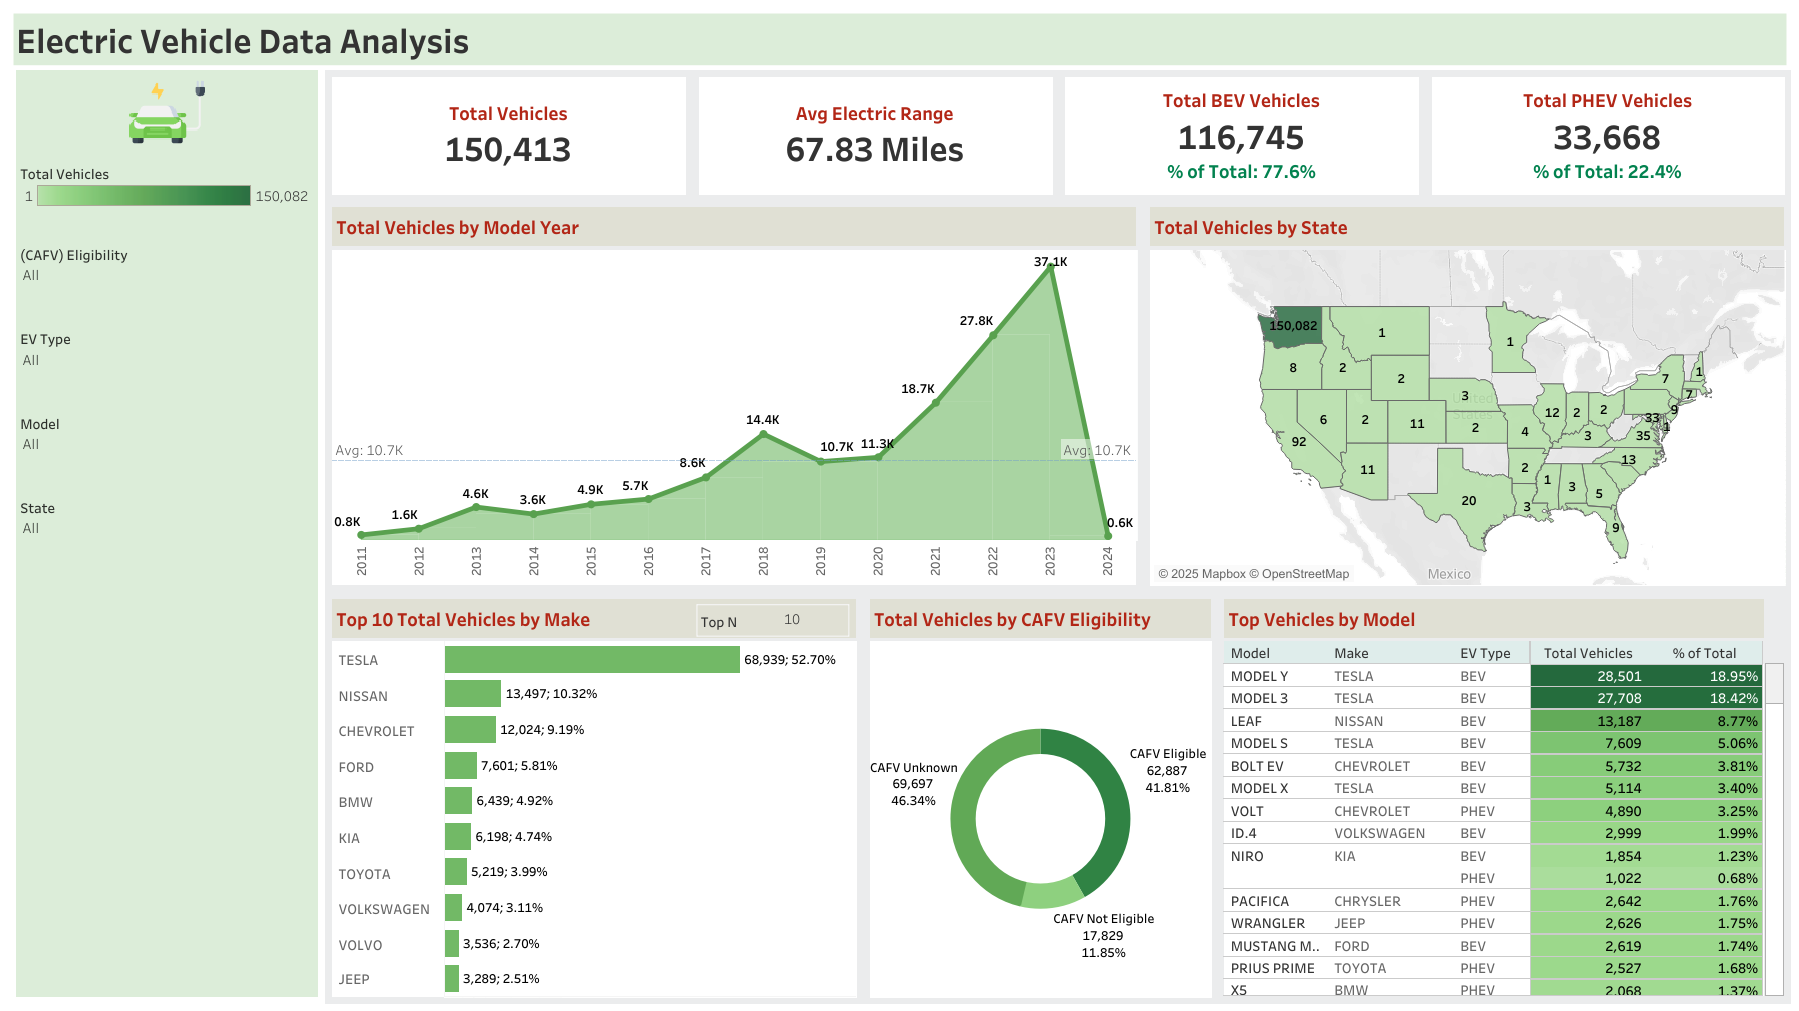

What the dashboard file says about the page in this screenshot:
{"tool":"tableau","page":{"name":"Dashboard 1","canvas":[1600,900],"ordinal":0},"visuals":[{"type":"title","box":[8,8,1584,54]},{"type":"image","param":"Image/electric-car.png","box":[14,62,269,75]},{"type":"worksheet","title":"Total Vehicles","mark":"Automatic","box":[289,62,326,116]},{"type":"worksheet","title":"Avg Electric Range","mark":"Automatic","box":[615,62,326,116]},{"type":"worksheet","title":"Total BEV Vehicles","mark":"Automatic","box":[941,62,326,116]},{"type":"worksheet","title":"Total PHEV Vehicles","mark":"Automatic","box":[1267,62,325,116]},{"type":"legend","title":"Total Vehicles by State","param":"[federated.0q1p4i817gj6m51c0z2hw016w8xw].[usr:Calculation_73465028695511040:qk]","box":[14,137,269,75]},{"type":"worksheet","title":"Total Vehicles by Model Year","mark":"Area","rows":["Calculation_73465028695511040","Calculation_73465028695511040"],"cols":["Model Year"],"box":[289,178,727,348]},{"type":"worksheet","title":"Total Vehicles by State","mark":"Multipolygon","box":[1016,178,576,348]},{"type":"filter","title":"Total Vehicles by Model Year","param":"[federated.0q1p4i817gj6m51c0z2hw016w8xw].[none:Clean Alternative Fuel Vehicle (C","box":[14,212,269,75]},{"type":"filter","title":"Total Vehicles by Model Year","param":"[federated.0q1p4i817gj6m51c0z2hw016w8xw].[none:Electric Vehicle Type:nk]","box":[14,287,269,75]},{"type":"filter","title":"Total Vehicles by Model Year","param":"[federated.0q1p4i817gj6m51c0z2hw016w8xw].[none:Model:nk]","box":[14,362,269,75]},{"type":"filter","title":"Total Vehicles by Model Year","param":"[federated.0q1p4i817gj6m51c0z2hw016w8xw].[none:State:nk]","box":[14,437,269,75]},{"type":"blank","box":[14,512,269,75]},{"type":"worksheet","title":"Top 10 Total Vehicles by Make","mark":"Automatic","rows":["Make"],"cols":["Calculation_73465028695511040"],"box":[289,526,478,365.9]},{"type":"worksheet","title":"Total Vehicles by CAFV Eligibility","mark":"Pie","rows":["Calculation_73465028769275911","Calculation_73465028769275911"],"box":[767,526,315,365.9]},{"type":"worksheet","title":"Top Vehicles by Model","mark":"Square","rows":["Model","Make","Electric Vehicle Type"],"box":[1082,526,510,365.9]},{"type":"parameter","param":"[Parameters].[Parameter 1]","box":[619,537,136,29]},{"type":"blank","box":[14,587,269,75]},{"type":"blank","box":[14,662,269,75]},{"type":"blank","box":[14,737,269,75]},{"type":"blank","box":[14,812,269,74]}]}

Visuals, with their boxes in screenshot pixels (x1, y1, x2, y2), scaled from the page's 1600x900 canvas onto the 1799x1011 screenshot:
title: <bbox>9, 9, 1790, 70</bbox>
image: <bbox>16, 70, 318, 154</bbox>
"Total Vehicles" worksheet: <bbox>325, 70, 691, 200</bbox>
"Avg Electric Range" worksheet: <bbox>691, 70, 1058, 200</bbox>
"Total BEV Vehicles" worksheet: <bbox>1058, 70, 1425, 200</bbox>
"Total PHEV Vehicles" worksheet: <bbox>1425, 70, 1790, 200</bbox>
"Total Vehicles by State" legend: <bbox>16, 154, 318, 238</bbox>
"Total Vehicles by Model Year" worksheet (Area marks): <bbox>325, 200, 1142, 591</bbox>
"Total Vehicles by State" worksheet (Multipolygon marks): <bbox>1142, 200, 1790, 591</bbox>
"Total Vehicles by Model Year" filter: <bbox>16, 238, 318, 322</bbox>
"Total Vehicles by Model Year" filter: <bbox>16, 322, 318, 407</bbox>
"Total Vehicles by Model Year" filter: <bbox>16, 407, 318, 491</bbox>
"Total Vehicles by Model Year" filter: <bbox>16, 491, 318, 575</bbox>
blank: <bbox>16, 575, 318, 659</bbox>
"Top 10 Total Vehicles by Make" worksheet: <bbox>325, 591, 862, 1002</bbox>
"Total Vehicles by CAFV Eligibility" worksheet (Pie marks): <bbox>862, 591, 1217, 1002</bbox>
"Top Vehicles by Model" worksheet (Square marks): <bbox>1217, 591, 1790, 1002</bbox>
parameter: <bbox>696, 603, 849, 636</bbox>
blank: <bbox>16, 659, 318, 744</bbox>
blank: <bbox>16, 744, 318, 828</bbox>
blank: <bbox>16, 828, 318, 912</bbox>
blank: <bbox>16, 912, 318, 995</bbox>
